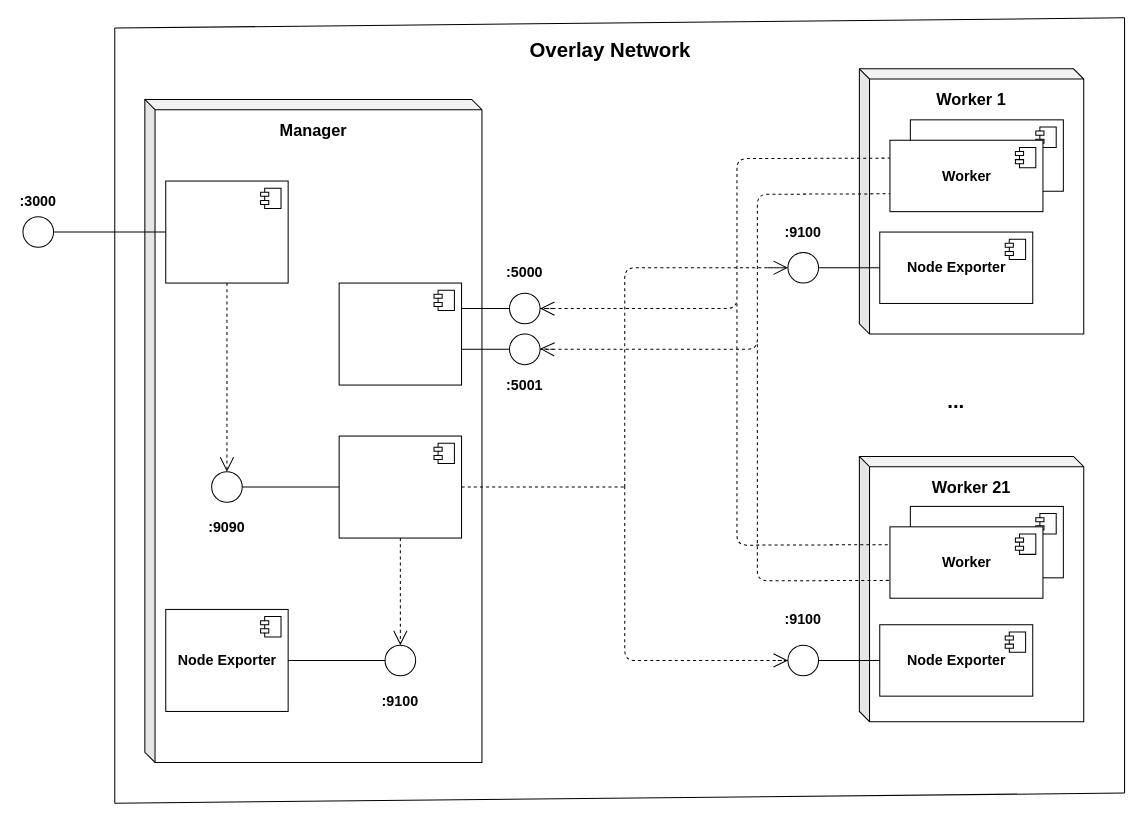
The diagram is 1143 pixels wide and 822 high, and some of its shapes have lost their labels. Each missing label, with the centre of its shape:
Grafana: the point at 226,231
Prometheus: the point at 400,486
Scheduler: the point at 400,333
